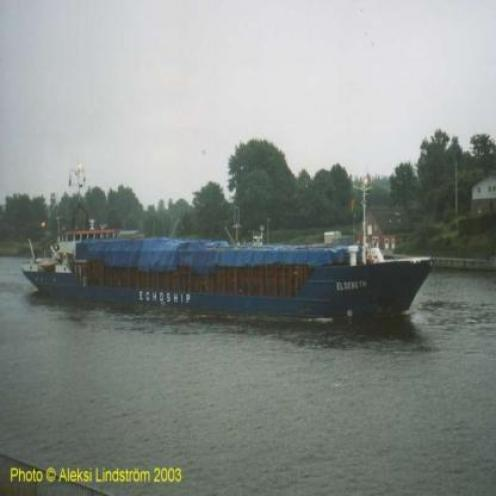Ship: (19, 205, 437, 322)
